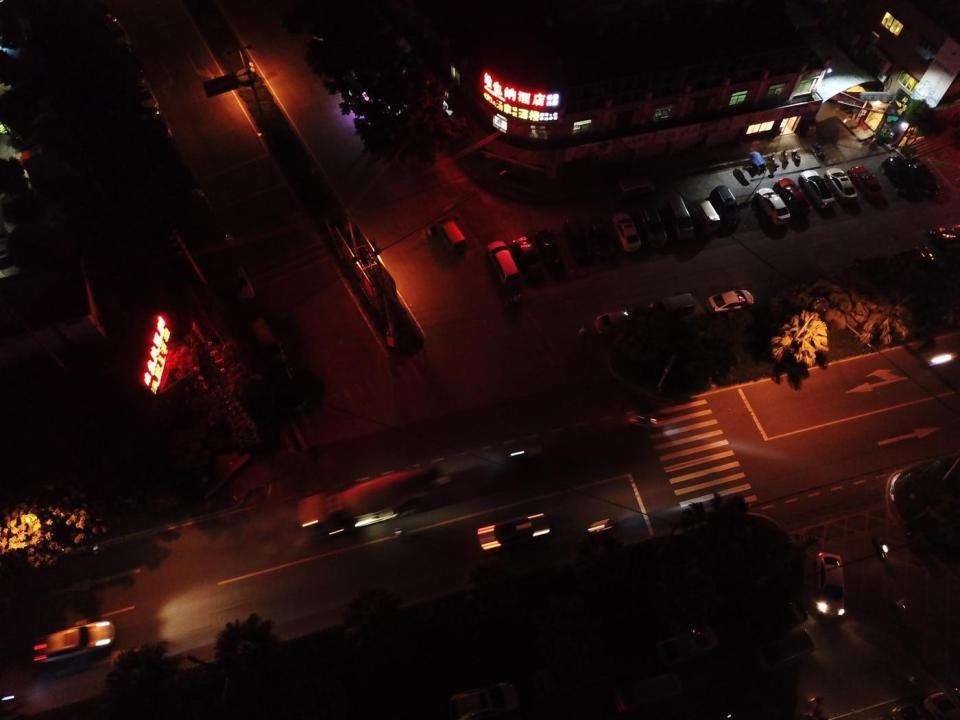car: (30, 618, 115, 672), (730, 595, 809, 650), (475, 509, 554, 555), (653, 625, 719, 671), (754, 629, 814, 671), (881, 154, 928, 202), (814, 551, 847, 617), (798, 170, 836, 211), (562, 216, 593, 265), (775, 178, 812, 218), (755, 187, 792, 226), (593, 308, 641, 337), (586, 215, 616, 260), (847, 165, 885, 200), (641, 202, 669, 249), (705, 288, 755, 314), (612, 211, 642, 252), (824, 168, 858, 204), (534, 229, 564, 269), (512, 236, 542, 271)
truck: (294, 464, 458, 539)
van: (486, 239, 521, 286), (650, 292, 695, 322), (668, 194, 695, 240), (615, 173, 658, 201), (436, 216, 468, 253), (715, 184, 742, 225), (694, 198, 721, 235)
